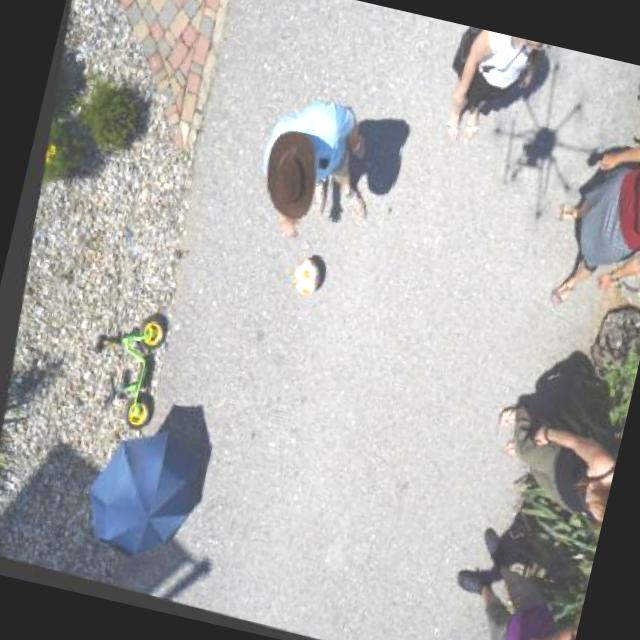Person: (227, 78, 393, 260), (455, 392, 624, 548), (524, 115, 640, 327), (419, 22, 558, 166)
